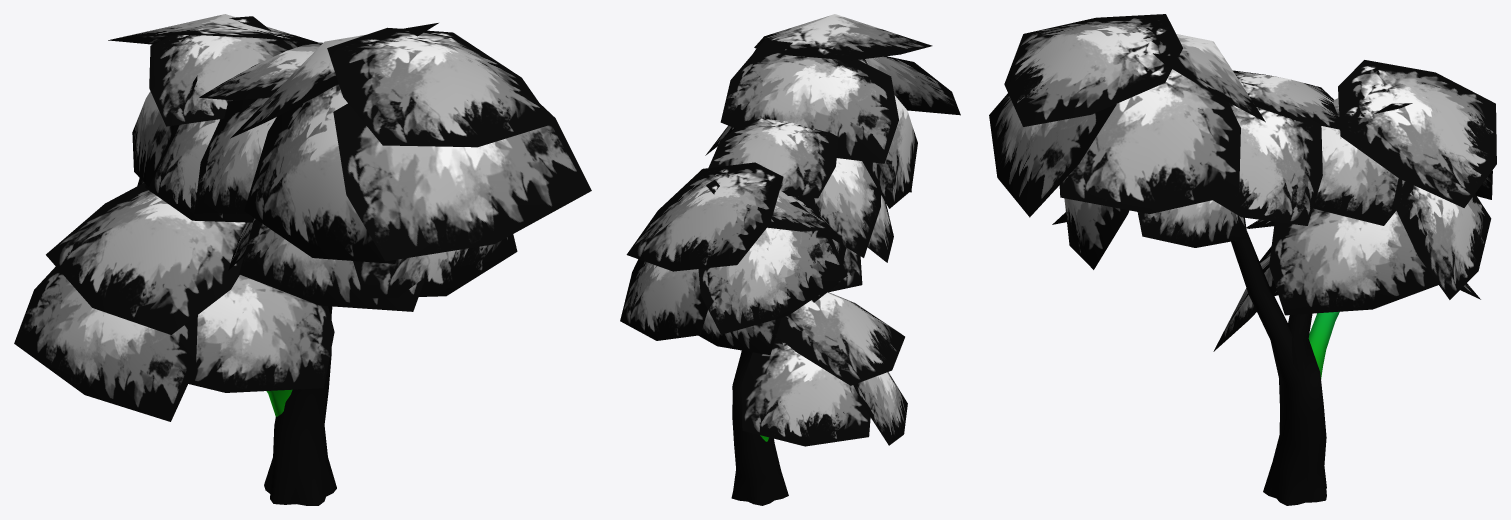
File: TreeV1.fbx
The picture shows the model from 3 angles, left to right: view 1: azimuth 30°, elevation 25°; view 2: azimuth 150°, elevation 25°; view 3: azimuth 270°, elevation 25°; orthographic projection. The views are drawn at different scales.
Visible parts, largest first — view 1: LeavesV1, TreeV1; view 2: LeavesV1, TreeV1; view 3: LeavesV1, TreeV1.
Boxes of the visible parts, left/top/right/bottom form: LeavesV1: left=14, top=14, right=591, bottom=421; TreeV1: left=264, top=306, right=336, bottom=505; LeavesV1: left=620, top=14, right=960, bottom=446; TreeV1: left=731, top=350, right=788, bottom=505; LeavesV1: left=989, top=14, right=1496, bottom=351; TreeV1: left=1231, top=231, right=1339, bottom=505.
Bounding box in the file's own units: 5.42 × 7.26 × 7.17.
